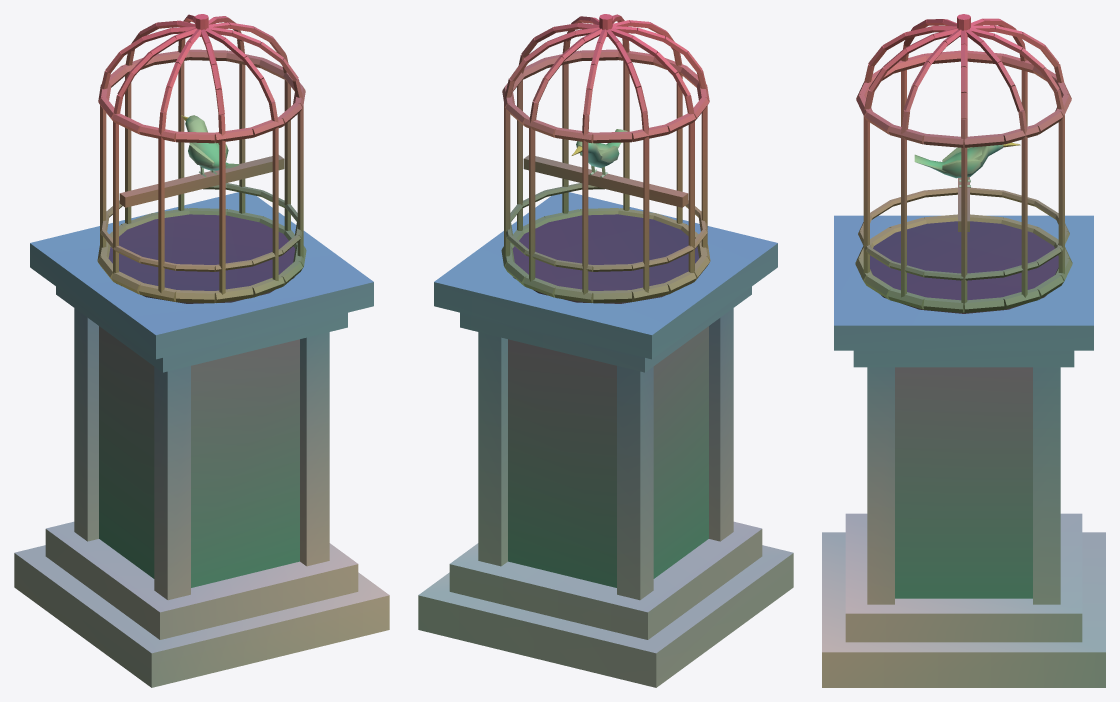
The model's file is cage_stand.glb.
3 renders of one model, left to right at view 1: azimuth 30°, elevation 25°; view 2: azimuth 150°, elevation 25°; view 3: azimuth 270°, elevation 25°, orthographic. The views are drawn at different scales.
Parts seen in each view (by area): view 1: stand_trim, stand, stand_cage, stand_floor, stand_lark_body; view 2: stand_trim, stand, stand_cage, stand_floor, stand_lark_body; view 3: stand_trim, stand, stand_cage, stand_floor, stand_lark_body.
Part boxes in pixels (box(x1,y1,x2,y2)): stand_trim: box(14, 192, 389, 687); stand: box(99, 326, 299, 587); stand_cage: box(97, 14, 306, 303); stand_floor: box(108, 214, 295, 303); stand_lark_body: box(185, 115, 239, 177); stand_trim: box(418, 192, 793, 687); stand: box(508, 326, 708, 587); stand_cage: box(501, 14, 710, 303); stand_floor: box(512, 214, 699, 303); stand_lark_body: box(576, 129, 627, 178); stand_trim: box(822, 215, 1105, 687); stand: box(895, 367, 1032, 598); stand_cage: box(855, 14, 1072, 312); stand_floor: box(870, 221, 1058, 313); stand_lark_body: box(914, 144, 1003, 187).
Size of the model in its own units: 0.72 by 1.71 by 0.72.
